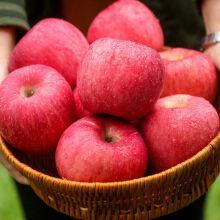apple: (1, 65, 77, 159), (78, 38, 165, 120), (52, 116, 149, 185), (138, 93, 219, 165), (9, 18, 86, 88), (86, 1, 163, 51), (156, 46, 218, 103)
